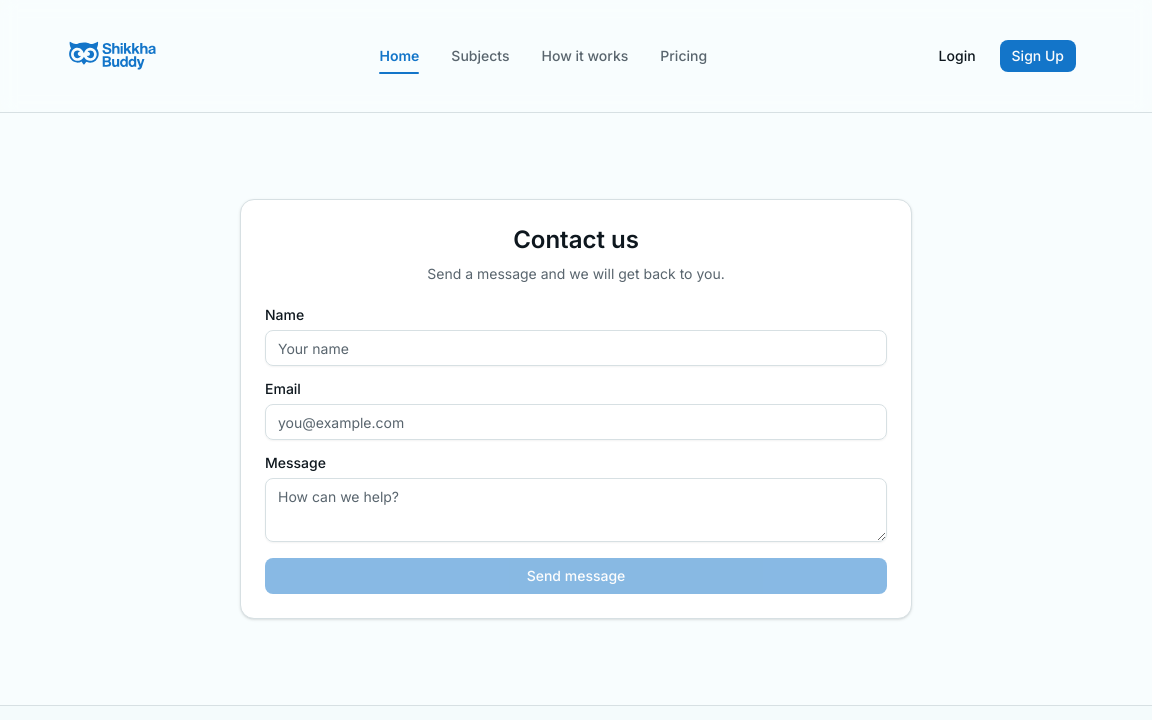
Scenario: contact page › submits valid form data and renders success state
Type "Student Name" into the field labelled "Name" at (576,348), box [265,330,887,366]
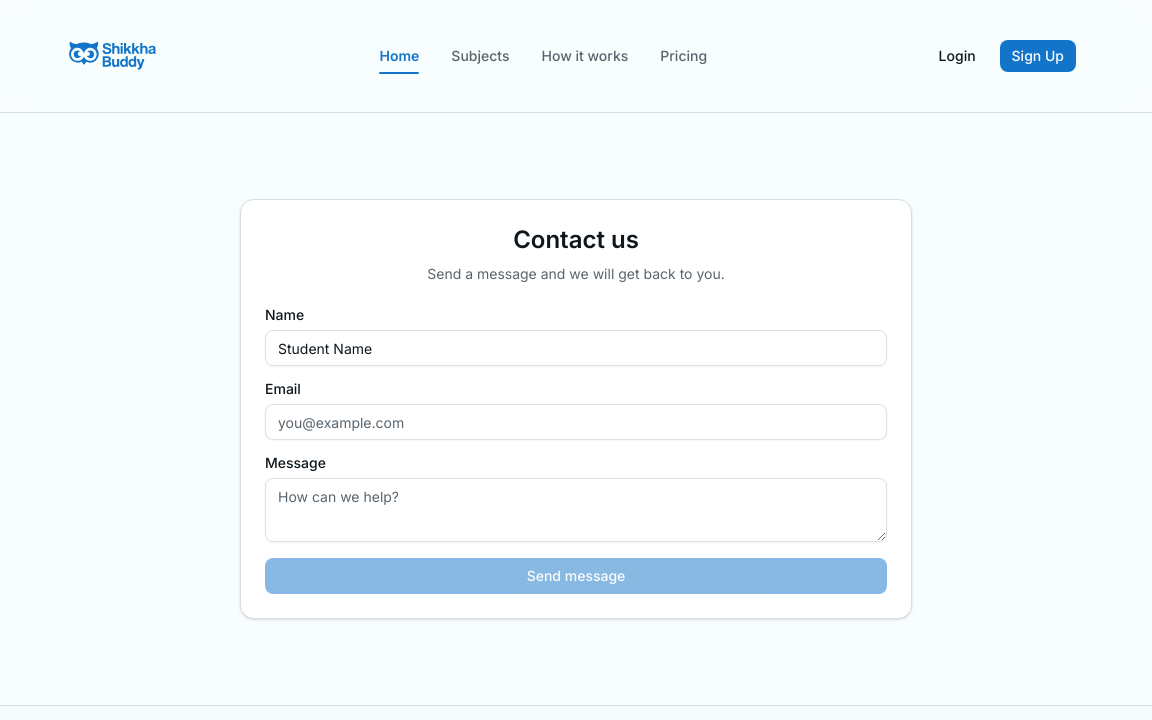
Type "student@example.com" into the field labelled "Email" at (576,422), box [265,404,887,440]
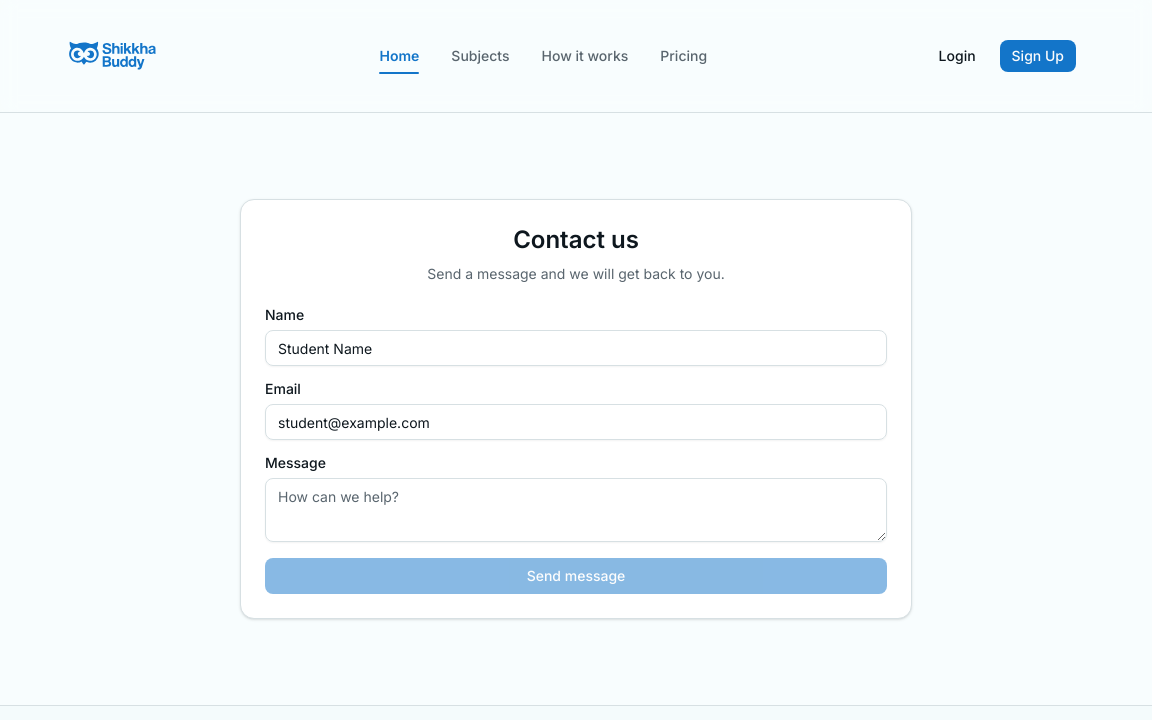
Type "I need help with the platform." into the text box labelled "Message" at (576,510), box [265,478,887,542]
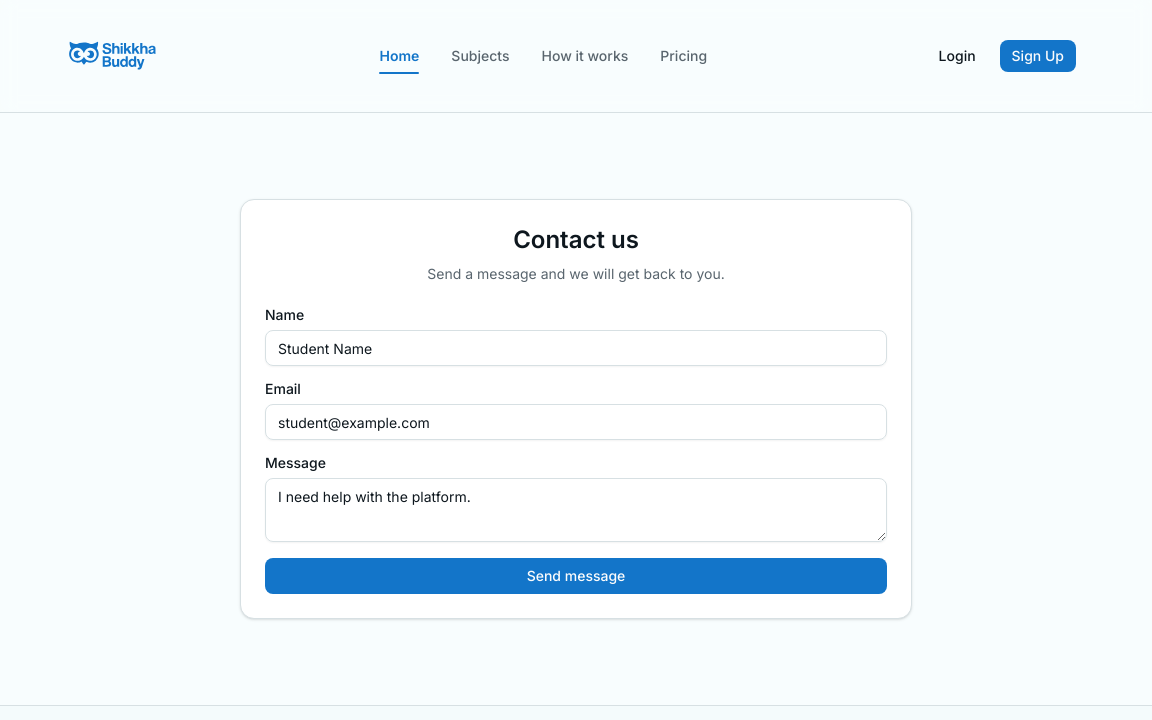
Click the button "Send message" at (576,576), box [265,558,887,594]
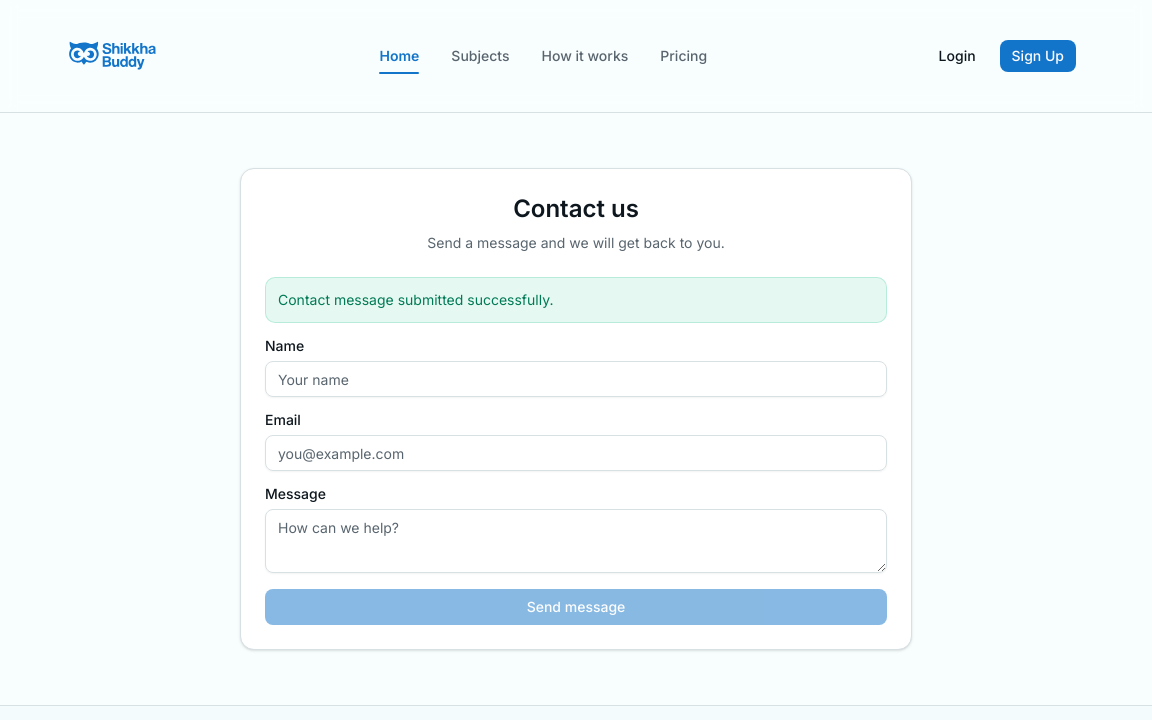
Expected: the text "Contact message submitted successfully." is shown, [265,277,887,323]
Expected: the field labelled "Name" is empty, [265,361,887,397]
Expected: the field labelled "Email" is empty, [265,435,887,471]
